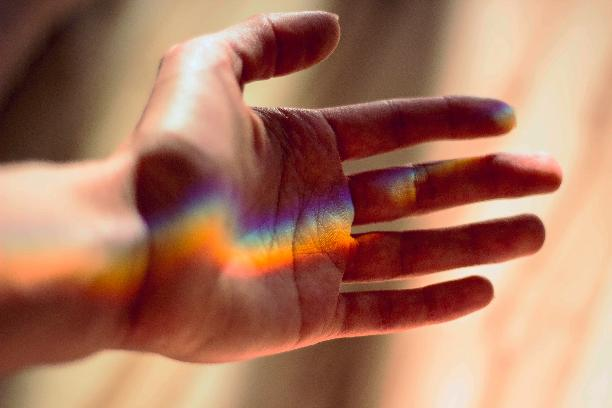Paper: (136, 7, 564, 371)
